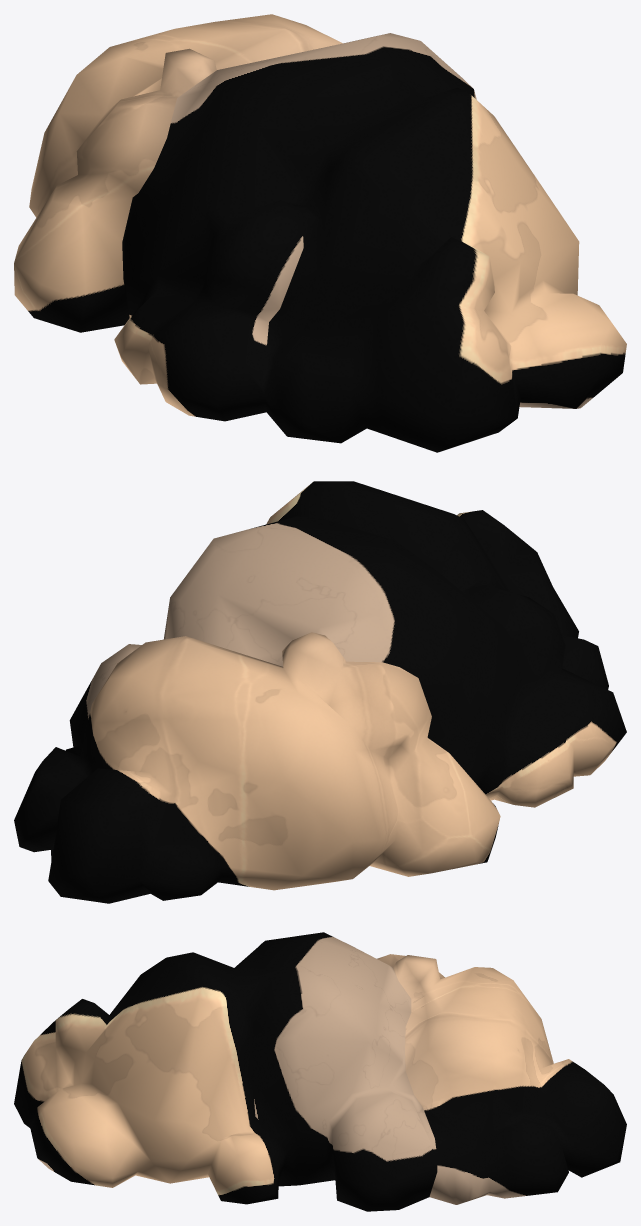
The model's file is Rock_4.fbx.
The picture shows the model from 3 angles, top to bottom: view 1: azimuth 30°, elevation 25°; view 2: azimuth 150°, elevation 25°; view 3: azimuth 270°, elevation 25°; orthographic projection. The views are drawn at different scales.
Visible parts, largest first — view 1: Low; view 2: Low; view 3: Low.
Part boxes in pixels (left/top/right/bottom): Low: left=14, top=14, right=626, bottom=452; Low: left=14, top=481, right=626, bottom=903; Low: left=14, top=932, right=626, bottom=1211.
Size of the model in its own units: 119 by 62.97 by 186.
